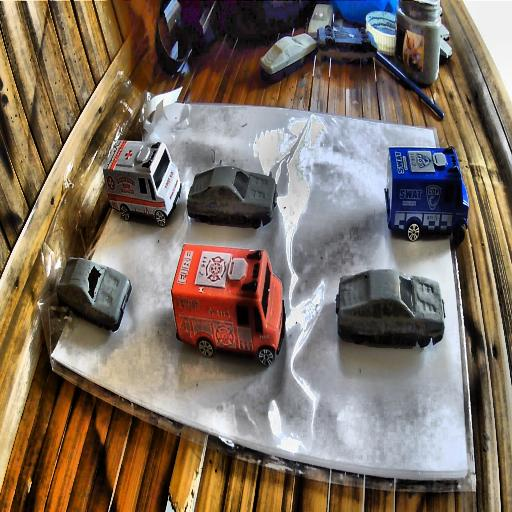ambulance: (102, 137, 182, 227)
fire_truck: (171, 244, 284, 366)
normal_car: (335, 269, 446, 349), (185, 165, 277, 231), (56, 256, 132, 334), (439, 37, 453, 61), (440, 23, 450, 42)
police car: (384, 146, 470, 246)
